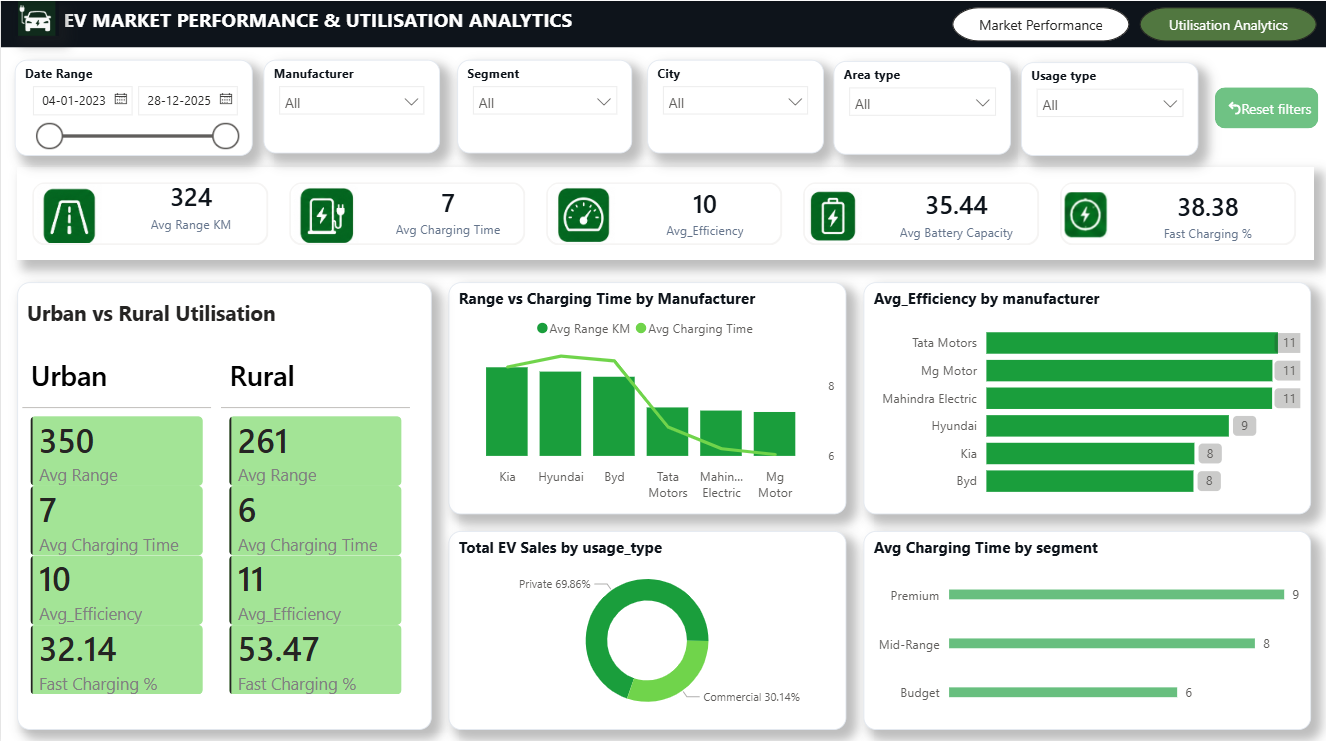

This screenshot's page, from the dashboard's own definition file:
{"tool":"powerbi","page":{"name":"Utilisation Analytics","canvas":[1280,720],"ordinal":1},"visuals":[{"type":"cardVisual","fields":{"Data":["fact.Avg Range KM","fact.Avg Charging Time","fact.Avg_Efficiency","vehicle.Avg Battery Capacity","vehicle.Fast Charging %"]},"box":[15.7,160.5,1251.1,89.3],"z":0},{"type":"shape","box":[0,0,1280,44.6],"z":1000},{"type":"textbox","box":[55.5,0,585.1,44.6],"z":2000},{"type":"image","box":[13.3,0,42.2,33.8],"z":3000},{"type":"slicer","title":"Date Range","fields":{"Values":["Calendar.Date"]},"box":[13.3,56.7,229.2,92.9],"z":4000},{"type":"slicer","title":"Manufacturer","fields":{"Values":["vehicle.manufacturer"]},"box":[253.4,56.7,170.1,90.5],"z":5000},{"type":"slicer","title":"Segment","fields":{"Values":["segment.segment"]},"box":[440.4,56.7,168.9,90.5],"z":6000},{"type":"slicer","title":"City","fields":{"Values":["location.city"]},"box":[623.7,56.7,170.1,90.5],"z":7000},{"type":"slicer","title":"Area type","fields":{"Values":["location.area_type"]},"box":[803.5,57.9,171.3,90.5],"z":8000},{"type":"slicer","title":"Usage type","fields":{"Values":["usage.usage_type"]},"box":[984.5,59.1,171.3,90.5],"z":9000},{"type":"actionButton","box":[1171.5,83.2,100.1,39.8],"z":10000},{"type":"lineStackedColumnComboChart","title":"Range vs Charging Time by Manufacturer","fields":{"Category":["vehicle.manufacturer"],"Y":["fact.Avg Range KM"],"Y2":["fact.Avg Charging Time"]},"box":[432,272,384,224],"z":11000},{"type":"clusteredBarChart","fields":{"Category":["vehicle.manufacturer"],"Y":["fact.Avg_Efficiency"]},"box":[832,272,432,224],"z":12000},{"type":"donutChart","fields":{"Y":["fact.Total EV Sales"],"Category":["usage.usage_type"]},"box":[432,512,384,192],"z":13000},{"type":"clusteredBarChart","fields":{"Category":["segment.segment"],"Y":["fact.Avg Charging Time"]},"box":[832,512,432,192],"z":14000},{"type":"pageNavigator","box":[918.1,6,353.5,33.8],"z":15000},{"type":"shape","box":[16,272,400,432],"z":16000},{"type":"cardVisual","fields":{"Data":["fact.Avg Range KM","fact.Avg Charging Time","fact.Avg_Efficiency","vehicle.Fast Charging %"],"Rows":["location.area_type"]},"box":[16,304,192,400],"z":17000},{"type":"cardVisual","fields":{"Data":["fact.Avg Range KM","fact.Avg Charging Time","fact.Avg_Efficiency","vehicle.Fast Charging %"],"Rows":["location.area_type"]},"box":[208,304,192,400],"z":18000},{"type":"cardVisual","title":"Urban vs Rural Utilisation","fields":{"Data":["fact.utilisation urban title"]},"box":[6,275,352,48],"z":19000}]}

Visuals, with their boxes in screenshot pixels (x1, y1, x2, y2), scaled from the page's 1280x720 canvas onto the 1326x741 screenshot:
cardVisual - fact.Avg Range KM x fact.Avg Charging Time: <region>16, 165, 1312, 257</region>
shape: <region>0, 0, 1325, 46</region>
textbox: <region>57, 0, 664, 46</region>
image: <region>14, 0, 57, 35</region>
"Date Range" slicer: <region>14, 58, 251, 154</region>
"Manufacturer" slicer: <region>263, 58, 439, 151</region>
"Segment" slicer: <region>456, 58, 631, 151</region>
"City" slicer: <region>646, 58, 822, 151</region>
"Area type" slicer: <region>832, 60, 1010, 153</region>
"Usage type" slicer: <region>1020, 61, 1197, 154</region>
actionButton: <region>1214, 86, 1317, 127</region>
"Range vs Charging Time by Manufacturer" lineStackedColumnComboChart: <region>448, 280, 845, 510</region>
clusteredBarChart - vehicle.manufacturer x fact.Avg_Efficiency: <region>862, 280, 1309, 510</region>
donutChart - fact.Total EV Sales x usage.usage_type: <region>448, 527, 845, 725</region>
clusteredBarChart - segment.segment x fact.Avg Charging Time: <region>862, 527, 1309, 725</region>
pageNavigator: <region>951, 6, 1317, 41</region>
shape: <region>17, 280, 431, 725</region>
cardVisual - fact.Avg Range KM x fact.Avg Charging Time: <region>17, 313, 215, 725</region>
cardVisual - fact.Avg Range KM x fact.Avg Charging Time: <region>215, 313, 414, 725</region>
"Urban vs Rural Utilisation" cardVisual: <region>6, 283, 371, 332</region>
